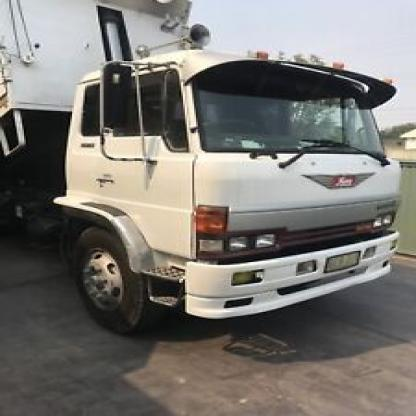dump_truck: (11, 15, 414, 364)
